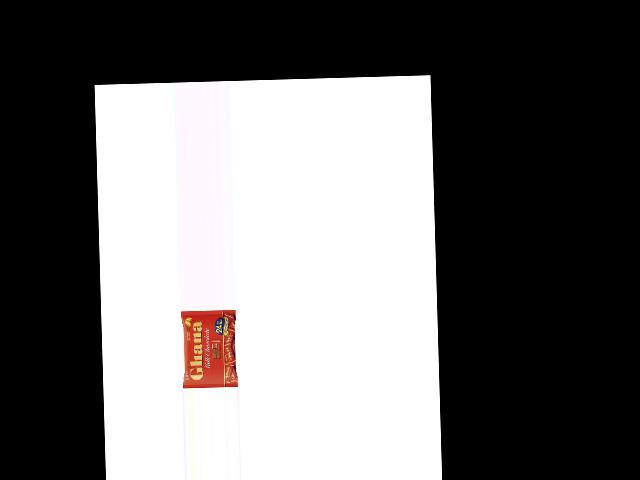chocolate: (182, 308, 239, 387)
